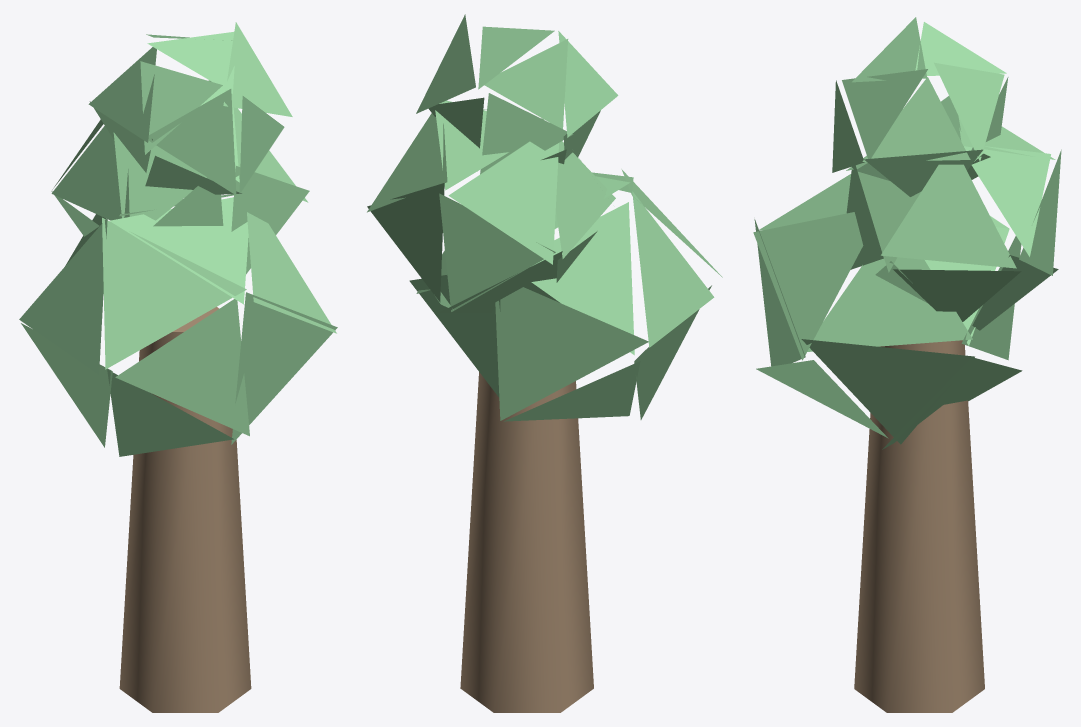
File: tree_round_2.glb
The picture shows the model from 3 angles, left to right: view 1: azimuth 30°, elevation 25°; view 2: azimuth 150°, elevation 25°; view 3: azimuth 270°, elevation 25°; orthographic projection. The views are drawn at different scales.
Visible parts, largest first — view 1: tree_round_2; view 2: tree_round_2; view 3: tree_round_2.
Part boxes in pixels (box(x1,y1,x2,y2)): tree_round_2: box(19, 22, 337, 712); tree_round_2: box(367, 14, 722, 712); tree_round_2: box(753, 17, 1061, 712).
Size of the model in its own units: 1.07 by 2.64 by 1.15.
